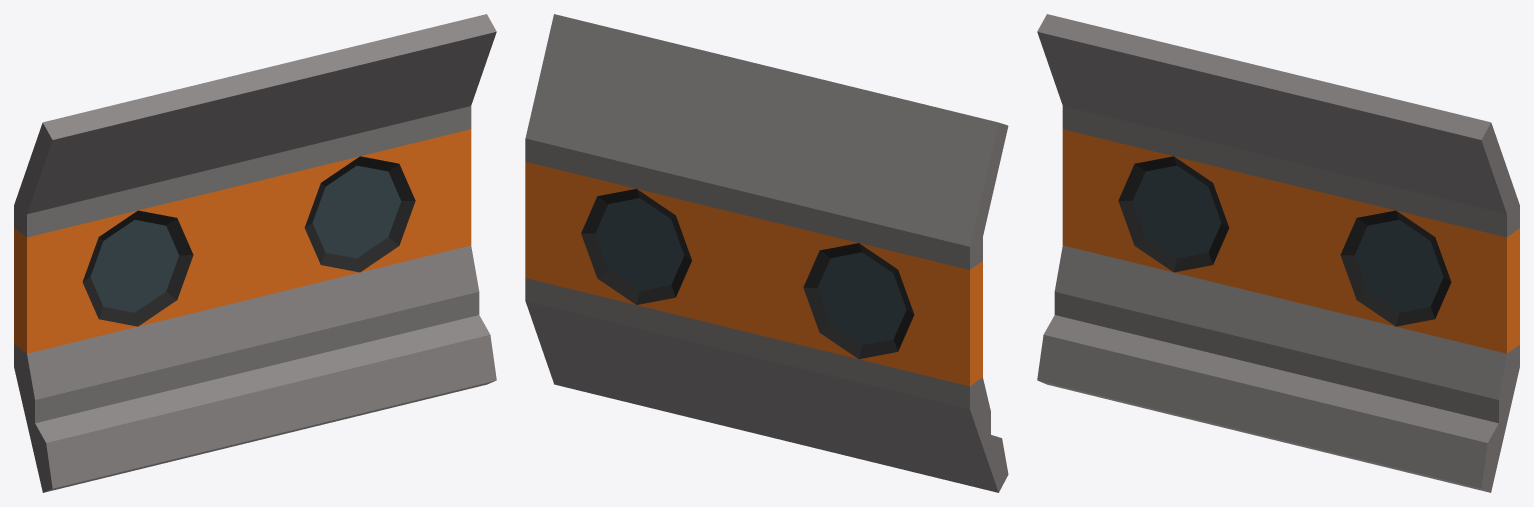
Rendered from scifi_scifi-windows-corridor-stripe.fbx.
3 views of the same model, side by side, from view 1: azimuth 30°, elevation 25°; view 2: azimuth 150°, elevation 25°; view 3: azimuth 330°, elevation 25° (orthographic).
Parts seen in each view (by area): view 1: scifi_scifi_windows_corridor_stripe; view 2: scifi_scifi_windows_corridor_stripe; view 3: scifi_scifi_windows_corridor_stripe.
Part boxes in pixels (bbox=[...]): scifi_scifi_windows_corridor_stripe: bbox=[14, 14, 496, 492]; scifi_scifi_windows_corridor_stripe: bbox=[525, 14, 1008, 492]; scifi_scifi_windows_corridor_stripe: bbox=[1037, 14, 1519, 492].
Bounding box in the file's own units: 200 × 159 × 30.
